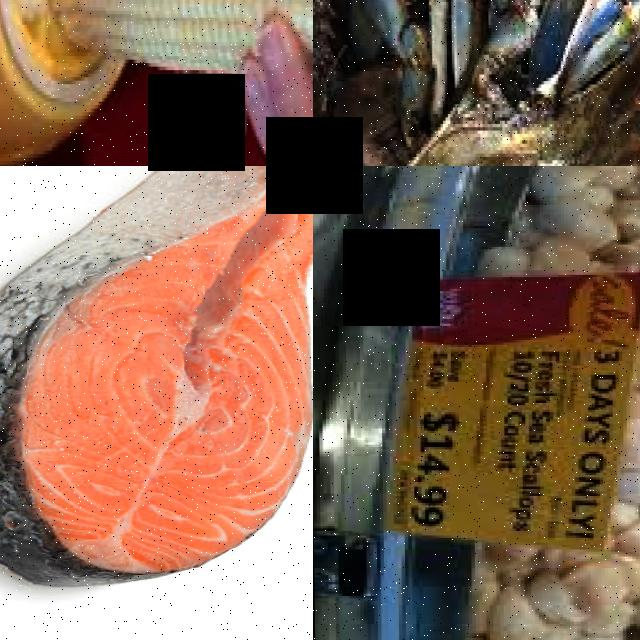salmon: (0, 166, 313, 592)
